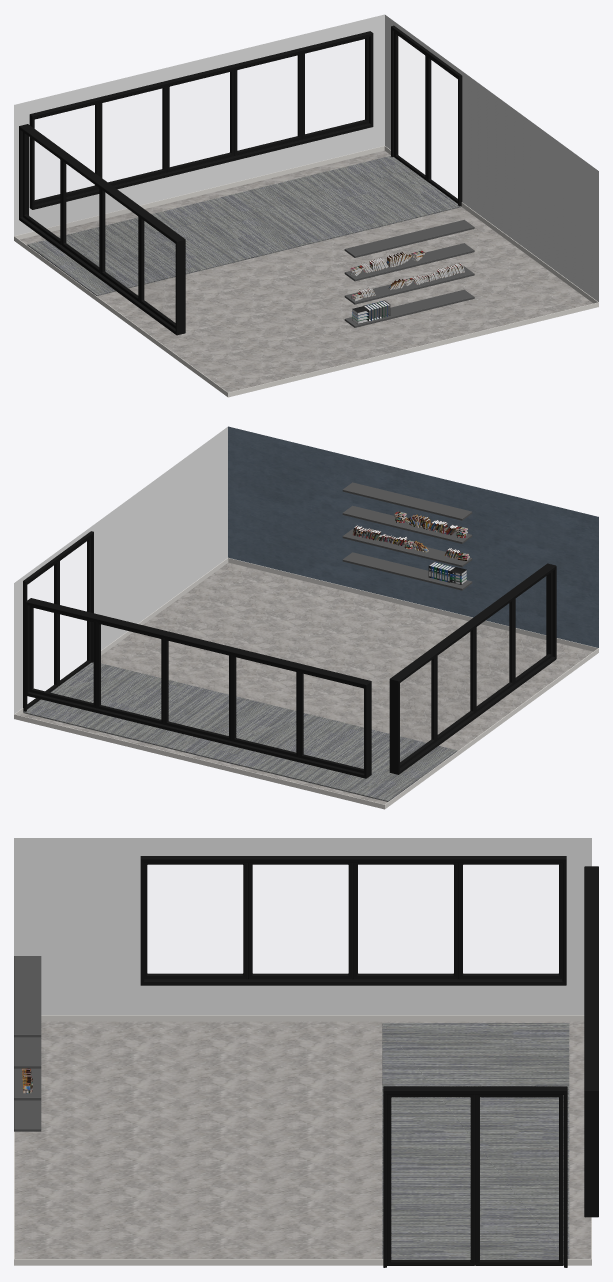
Rendered from commercial-office-room.glb.
The picture shows the model from 3 angles, top to bottom: view 1: azimuth 30°, elevation 25°; view 2: azimuth 150°, elevation 25°; view 3: azimuth 270°, elevation 25°; orthographic projection. The views are drawn at different scales.
Visible parts, largest first — view 1: floor, floor.001, right_wall, front_wall, window1, window2, shelf, sliding_door; view 2: floor, back_wall, floor.001, right_wall, window1, window2, shelf, sliding_door; view 3: floor, left_wall, floor.001, window2, sliding_door, window1, shelf.
Part boxes in pixels (x1,y1,x2,y2): floor: [14, 145, 598, 397]; floor.001: [27, 156, 461, 295]; right_wall: [385, 15, 598, 301]; front_wall: [14, 14, 384, 235]; window1: [29, 31, 373, 209]; window2: [19, 124, 185, 335]; shelf: [344, 219, 474, 327]; sliding_door: [391, 25, 462, 206]; floor: [14, 557, 598, 809]; back_wall: [228, 426, 598, 647]; floor.001: [23, 662, 457, 801]; right_wall: [14, 427, 227, 713]; window1: [25, 598, 371, 778]; window2: [389, 563, 556, 774]; shelf: [342, 482, 472, 590]; sliding_door: [23, 531, 93, 711]; floor: [14, 1015, 591, 1265]; left_wall: [14, 838, 591, 1015]; floor.001: [382, 1023, 569, 1264]; window2: [140, 856, 566, 985]; sliding_door: [383, 1086, 567, 1267]; window1: [584, 866, 598, 1217]; shelf: [14, 956, 41, 1131].
Bounding box in the file's own units: 8.63 × 2.96 × 8.56.
16 materials, 8 textured.
